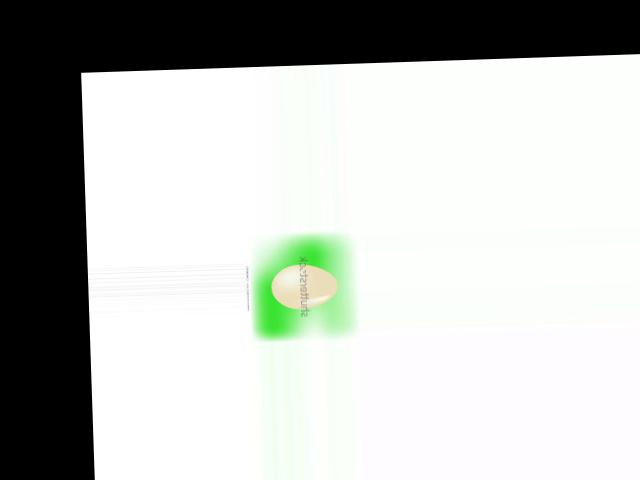egg: (271, 262, 338, 309)
